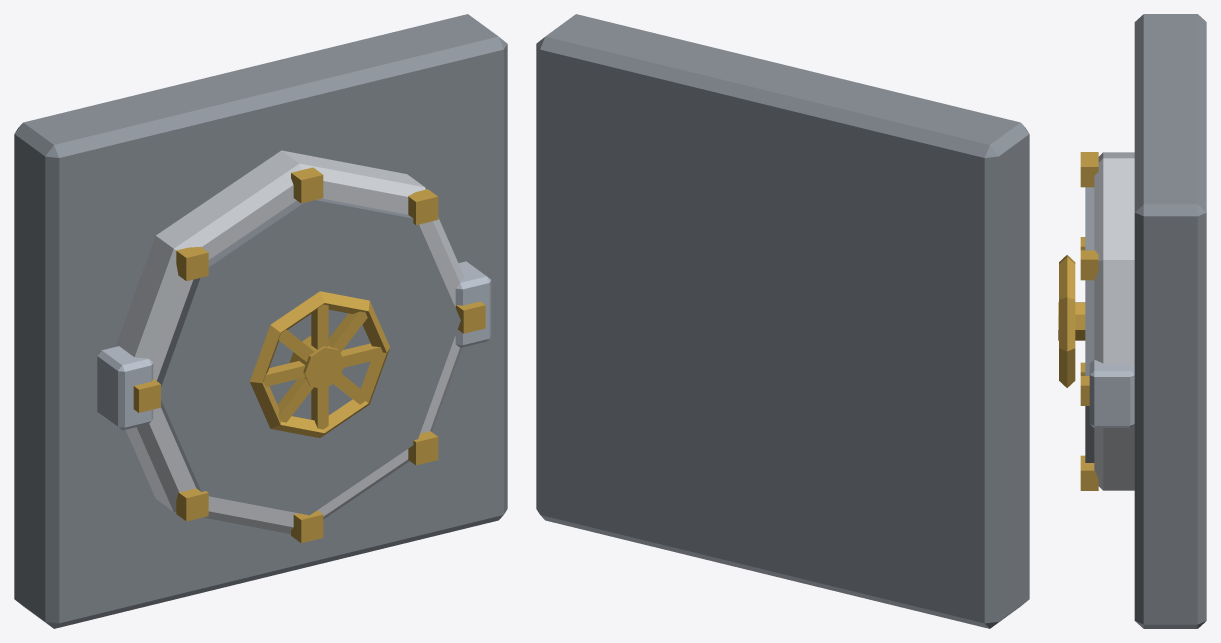
File: VaultDoor.fbx
The picture shows the model from 3 angles, left to right: view 1: azimuth 30°, elevation 25°; view 2: azimuth 150°, elevation 25°; view 3: azimuth 270°, elevation 25°; orthographic projection. The views are drawn at different scales.
Visible parts, largest first — view 1: VaultDoor; view 2: VaultDoor; view 3: VaultDoor.
Part boxes in pixels (x1,y1,x2,y2): VaultDoor: (14,14,507,628); VaultDoor: (536,14,1029,628); VaultDoor: (1058,14,1206,628).
Bounding box in the file's own units: 10.4 × 10.4 × 3.3.
Materials: 1 (1 with a texture image).
